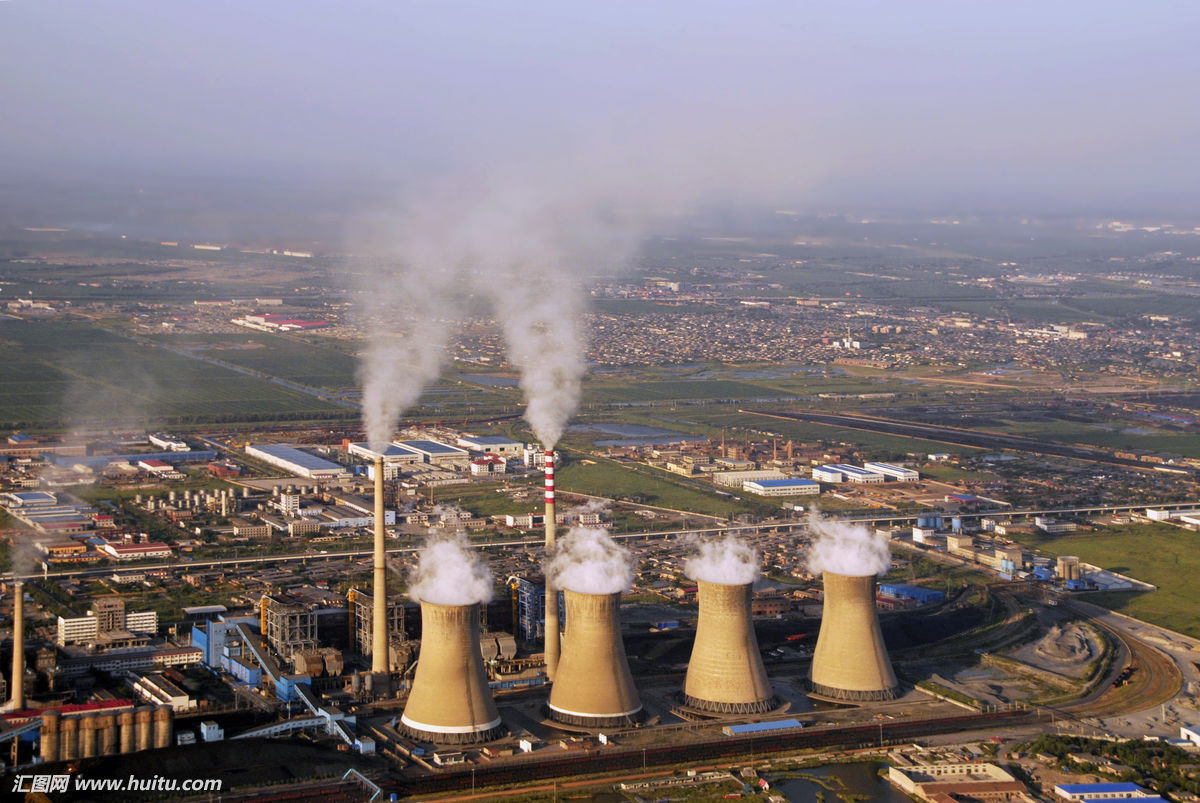dust: (480, 258, 603, 459), (348, 279, 453, 467), (793, 512, 895, 589), (404, 545, 497, 617), (557, 528, 639, 603), (677, 530, 772, 593)
